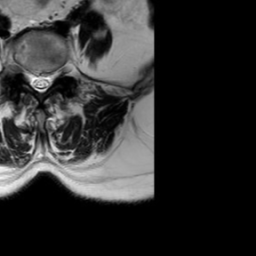CCS_normal: (36, 61, 43, 100)
LFS_normal: (51, 54, 60, 87)
LLS_normal: (43, 60, 51, 95)
RFS_normal: (20, 58, 28, 86)
RLS_normal: (28, 60, 36, 96)
